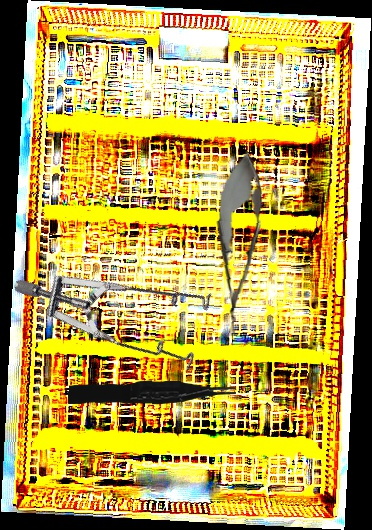Micro Scissor: (208, 149, 269, 338)
Speculum: (10, 189, 239, 420)
Tissue Forceps: (68, 377, 236, 410)
